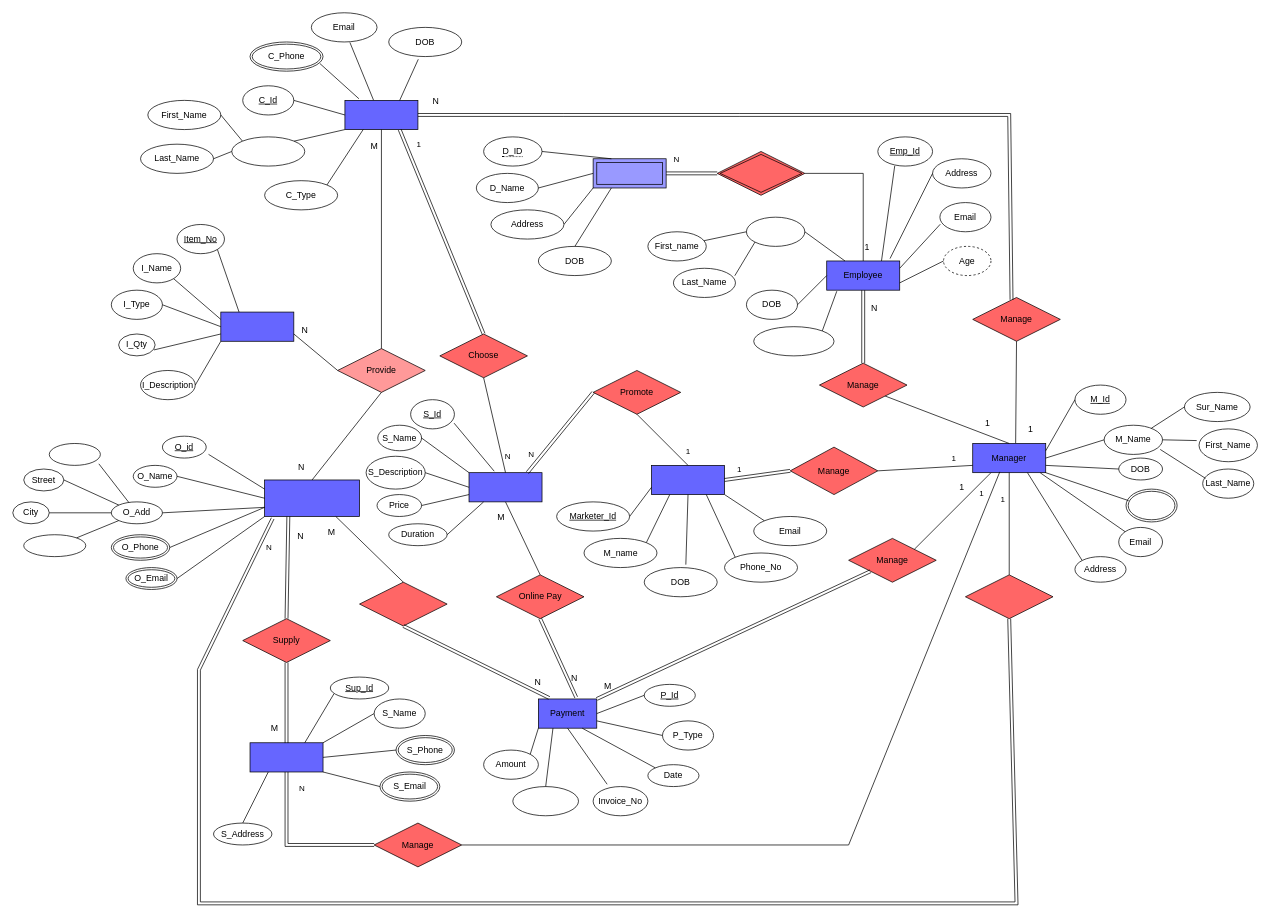
The diagram is 1270 pixels wide and 918 high, and some of its shapes have lost their labels. The centre of each missing label's shape, as x and y in pixels:
"C_name" goes at pixel 268 151.
"Customer" goes at pixel 381 115.
"Depend" goes at pixel 760 173.
"Dependent" goes at pixel 629 173.
"Direct Pay" goes at pixel 403 603.
"Emp_Name" goes at pixel 775 231.
"Emp_Phone" goes at pixel 793 341.
"House_No" goes at pixel 74 454.
"Item" goes at pixel 257 326.
"Marketer" goes at pixel 688 480.
"Outlet" goes at pixel 312 497.
"P_Method" goes at pixel 545 801.
"Phone" goes at pixel 1151 505.
"Postal_Code" goes at pixel 54 545.
"Service" goes at pixel 505 487.
"Supplier" goes at pixel 286 757.
"Works in" goes at pixel 1009 596.
